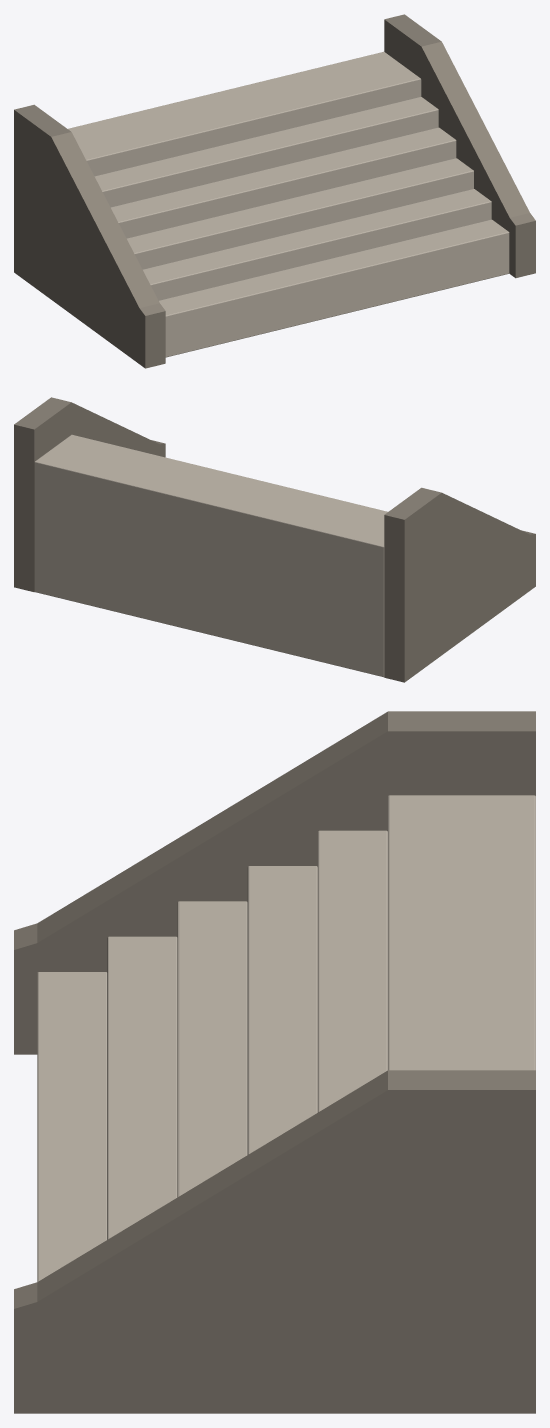
File: street_stairs_wide.fbx
3 views of the same model, one above another, from view 1: azimuth 30°, elevation 25°; view 2: azimuth 150°, elevation 25°; view 3: azimuth 270°, elevation 25° (orthographic). The views are drawn at different scales.
Visible parts, largest first — view 1: Street_Stairs_Wide; view 2: Street_Stairs_Wide; view 3: Street_Stairs_Wide.
Boxes of the visible parts, x1,y1,x2,y2 form: Street_Stairs_Wide: (14,14,535,368); Street_Stairs_Wide: (14,397,535,682); Street_Stairs_Wide: (14,711,535,1413).
Bounding box in the file's own units: 575 × 229 × 335.
